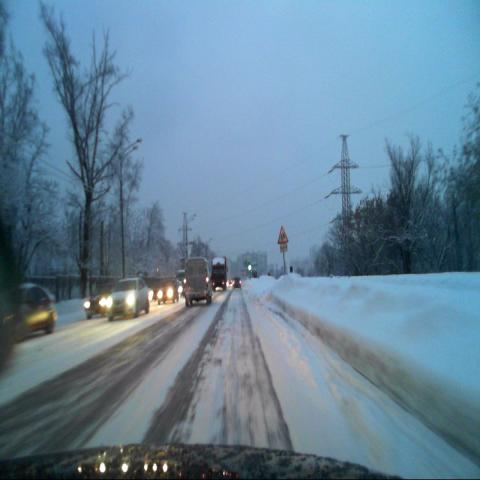1_23: (277, 222, 289, 243)
